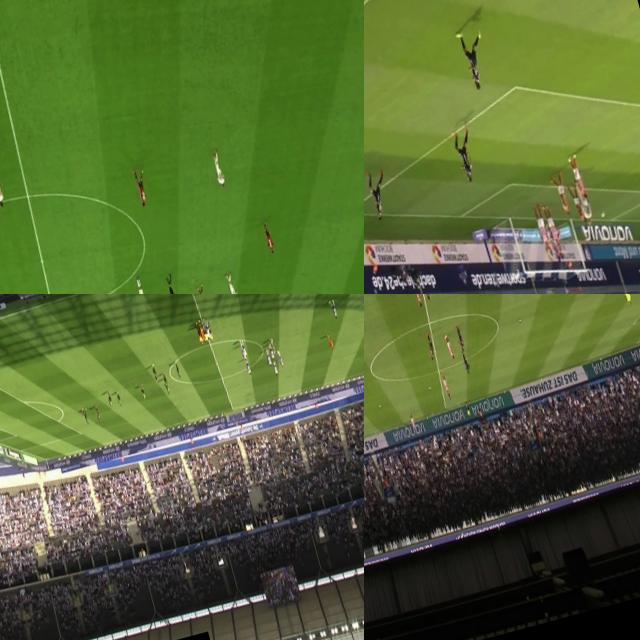ball: (598, 208, 606, 222), (518, 319, 522, 325), (428, 384, 432, 390), (378, 403, 381, 408)
player: (452, 22, 496, 94), (447, 122, 482, 185), (364, 164, 396, 222), (542, 210, 564, 263), (566, 180, 590, 228), (548, 170, 572, 216), (530, 202, 552, 250), (566, 151, 586, 199), (540, 204, 562, 246), (576, 180, 594, 225), (209, 150, 228, 187), (134, 168, 152, 207), (259, 222, 278, 255), (222, 270, 241, 294), (423, 330, 436, 359), (442, 333, 455, 360), (327, 296, 340, 322), (454, 323, 466, 350), (195, 318, 208, 342), (134, 277, 149, 294), (267, 336, 278, 358), (460, 351, 470, 374), (0, 168, 6, 205), (92, 404, 102, 426), (149, 364, 160, 384), (173, 360, 183, 382), (114, 390, 124, 410), (238, 338, 248, 358), (243, 356, 253, 376), (202, 320, 212, 340), (409, 294, 423, 307), (82, 408, 91, 428), (618, 294, 633, 306), (195, 283, 211, 294), (275, 348, 284, 367), (326, 333, 336, 350), (267, 344, 276, 362), (138, 382, 147, 400), (105, 391, 114, 407), (240, 344, 248, 362), (264, 349, 272, 367), (271, 358, 279, 376), (163, 380, 171, 396), (409, 415, 416, 431), (442, 374, 448, 392), (161, 374, 168, 388), (445, 384, 451, 399)
